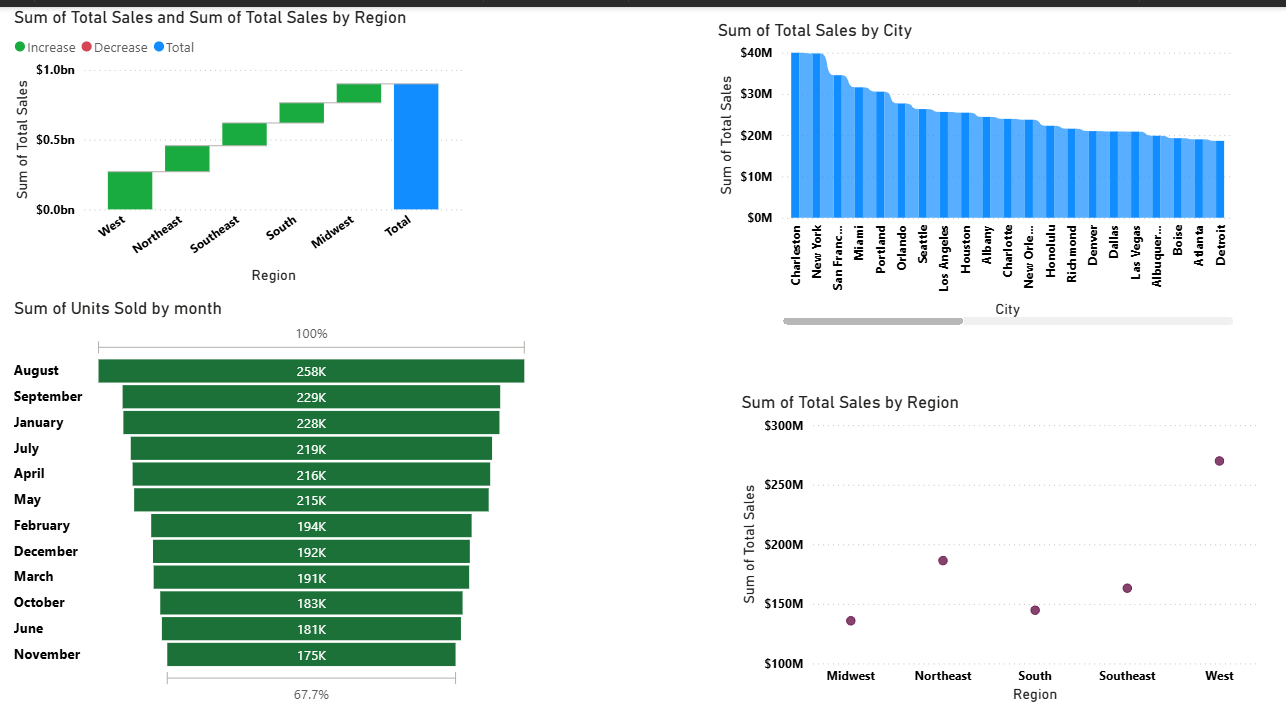

The page's visual inventory and layout, read from the dashboard file:
{"tool":"powerbi","page":{"name":"Page 2","canvas":[1280,720],"ordinal":1},"visuals":[{"type":"waterfallChart","fields":{"Category":["Data Sales Adidas.Region"],"Y":["Sum(Data Sales Adidas.Total Sales)"]},"box":[9.7,0,456.6,280.1],"z":0},{"type":"funnel","fields":{"Y":["Sum(Data Sales Adidas.Units Sold)"],"Category":["Data Sales Adidas.month"]},"box":[9.7,289.8,523,408],"z":1000},{"type":"ribbonChart","fields":{"Category":["Data Sales Adidas.City"],"Y":["Sum(Data Sales Adidas.Total Sales)"]},"box":[710.8,13,523,309.3],"z":2000},{"type":"scatterChart","fields":{"X":["Data Sales Adidas.Region"],"Y":["Sum(Data Sales Adidas.Total Sales)"]},"box":[733.5,383.8,523,314.1],"z":3000}]}

Visuals, with their boxes in screenshot pixels (x1, y1, x2, y2), scaled from the page's 1280x720 canvas onto the 1286x726 screenshot:
waterfallChart - Data Sales Adidas.Region x Sum(Data Sales Adidas.Total Sales): 10 0 468 282
funnel - Sum(Data Sales Adidas.Units Sold) x Data Sales Adidas.month: 10 292 535 704
ribbonChart - Data Sales Adidas.City x Sum(Data Sales Adidas.Total Sales): 714 13 1240 325
scatterChart - Data Sales Adidas.Region x Sum(Data Sales Adidas.Total Sales): 737 387 1262 704
